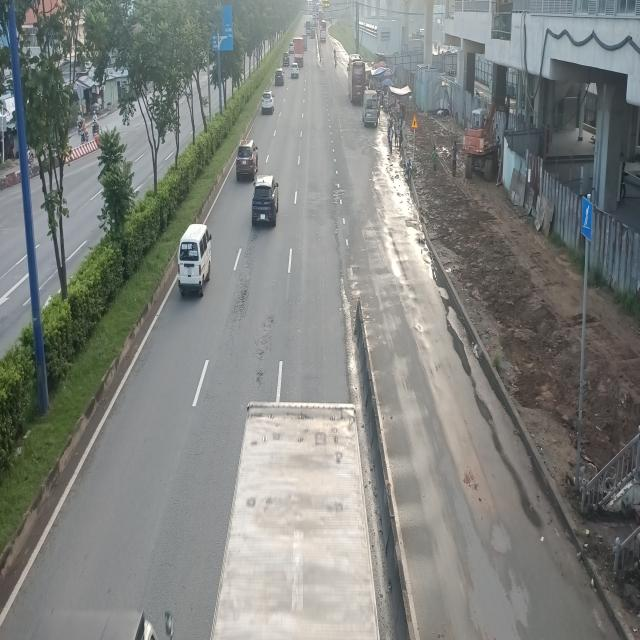car: (250, 174, 280, 225), (236, 142, 260, 182)
coach: (349, 57, 367, 103)
van: (176, 223, 212, 292), (362, 88, 379, 126)
